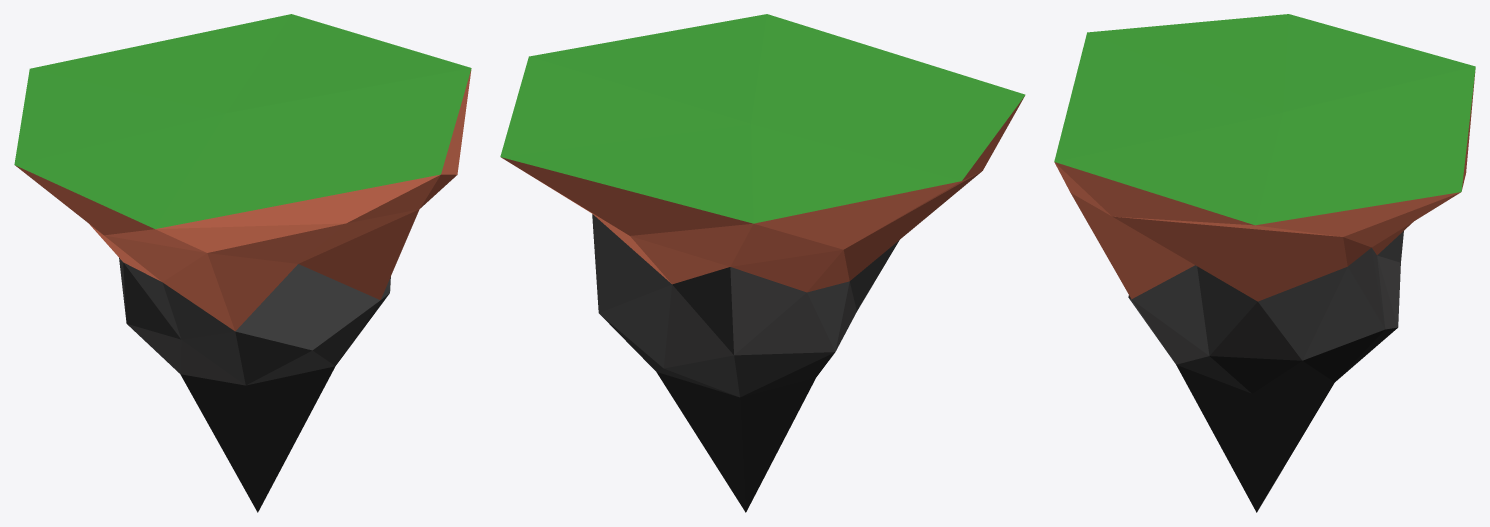
File: island_forest.dae
3 renders of one model, left to right at view 1: azimuth 30°, elevation 25°; view 2: azimuth 150°, elevation 25°; view 3: azimuth 270°, elevation 25°, orthographic. The views are drawn at different scales.
Visible parts, largest first — view 1: Icosphere; view 2: Icosphere; view 3: Icosphere.
Part boxes in pixels (x1,y1,x2,y2): Icosphere: (14, 14, 471, 512); Icosphere: (500, 14, 1025, 512); Icosphere: (1054, 14, 1475, 512).
Size of the model in its own units: 8.91 by 7.44 by 7.63.
